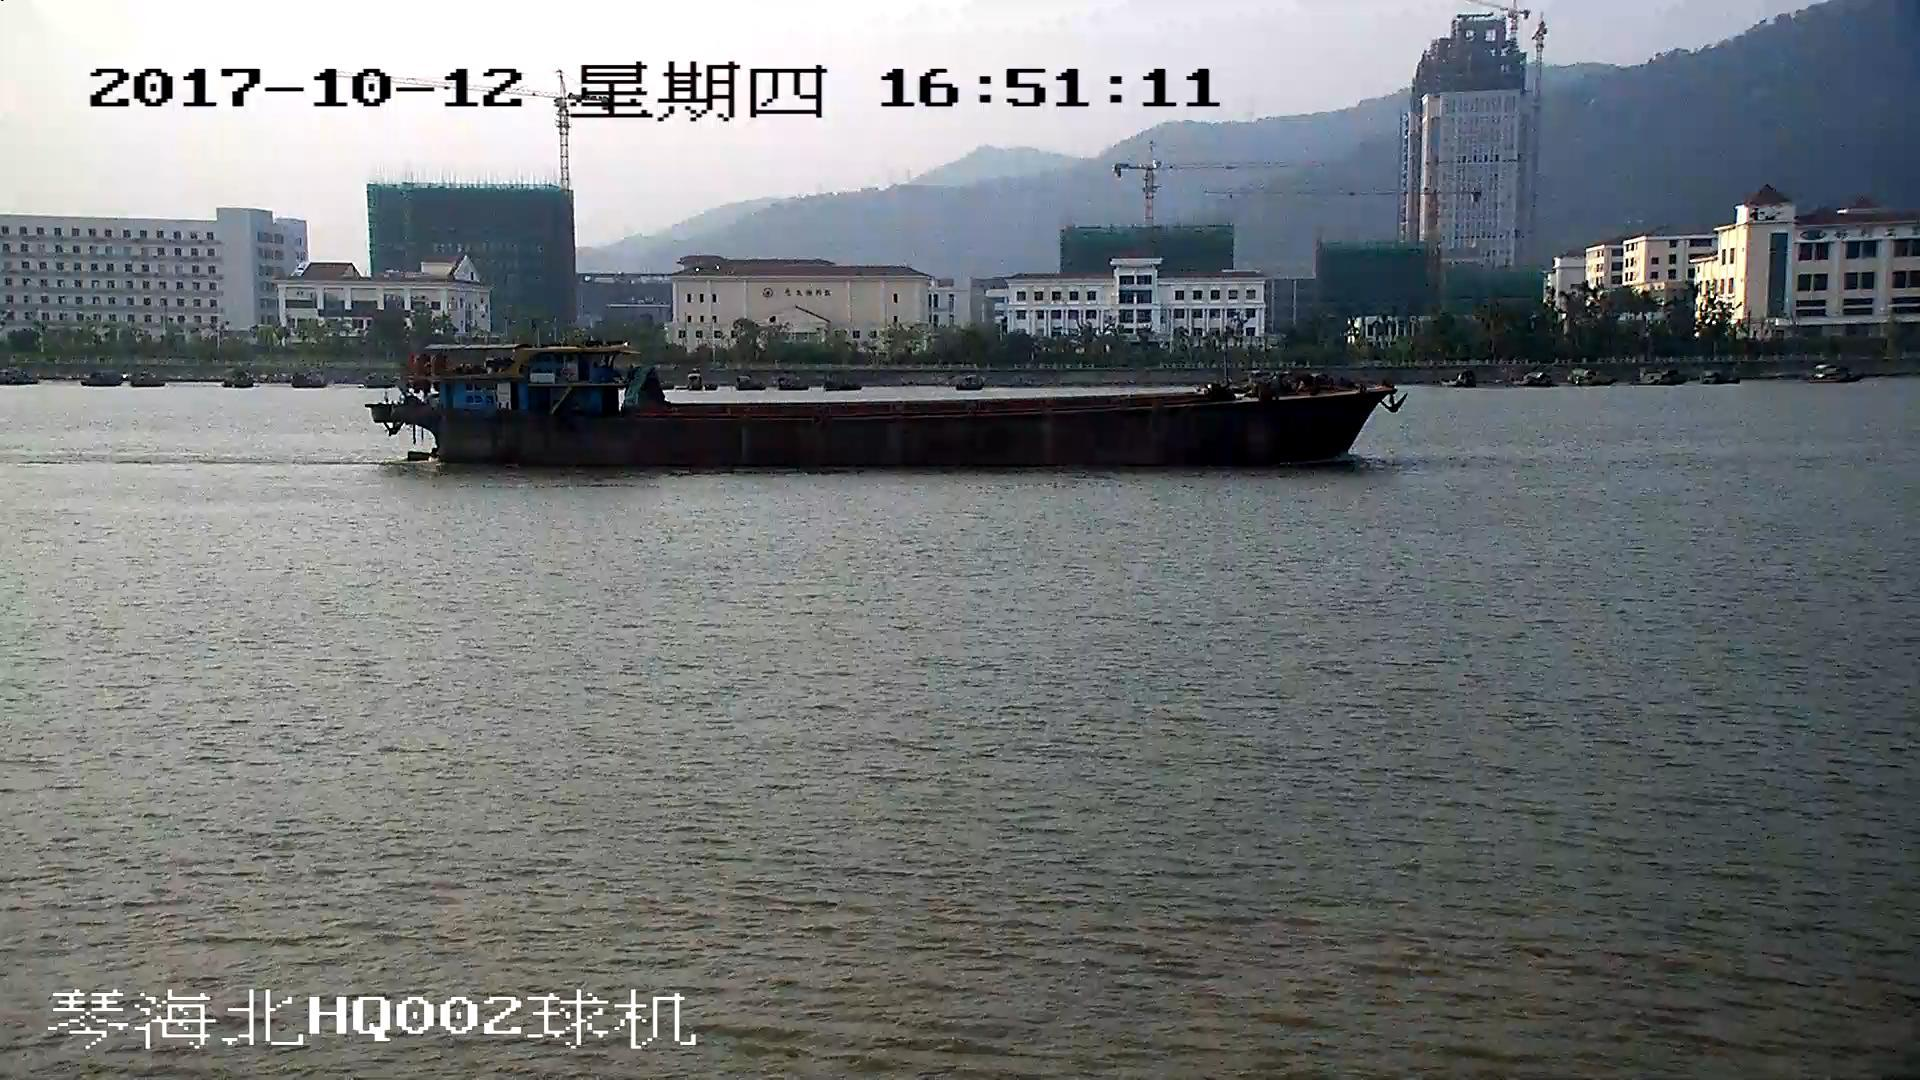Ship: (371, 345, 1394, 473)
